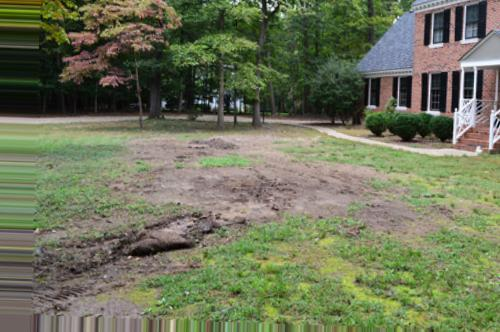patch: (192, 162, 247, 208), (255, 149, 297, 185), (287, 187, 340, 209), (323, 166, 356, 200), (371, 187, 405, 217), (155, 144, 187, 166), (371, 215, 399, 234), (156, 171, 175, 189)
